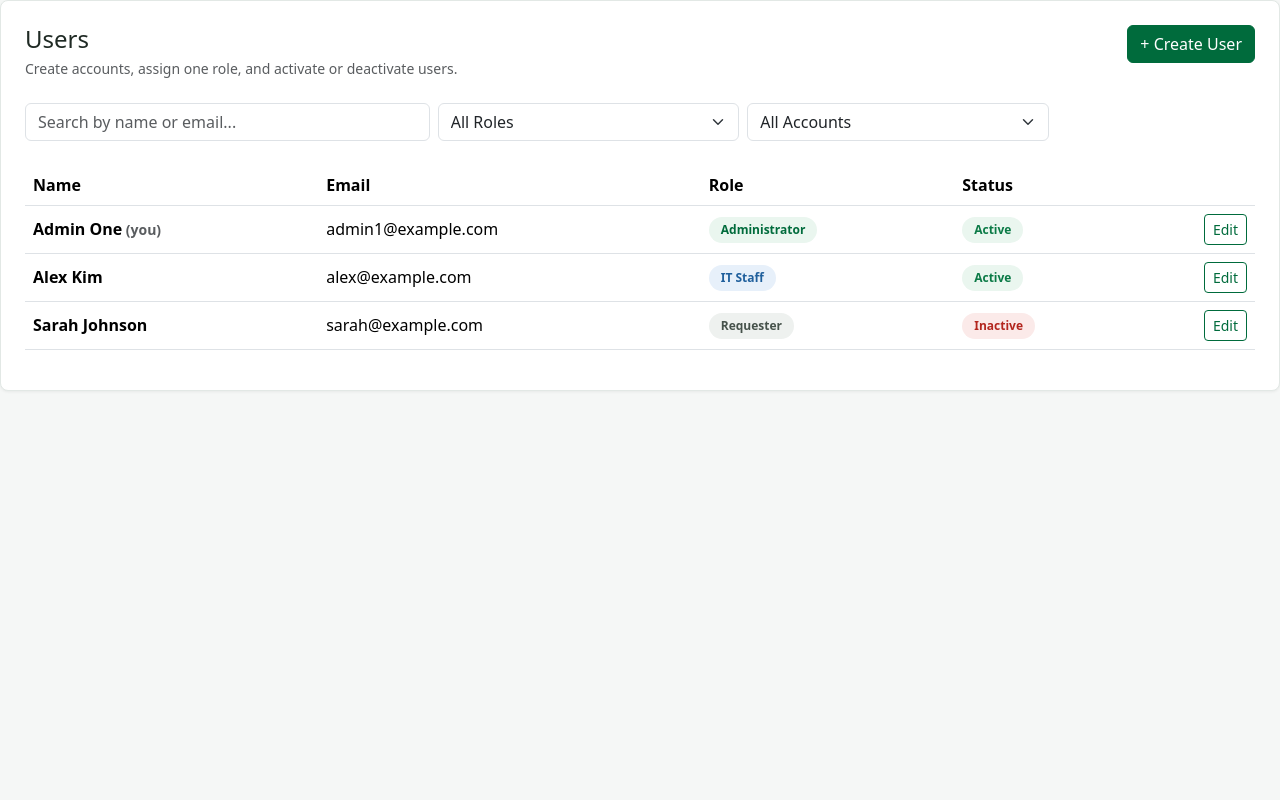
Test case: UserManagement (UI-05) › closes the panel on Escape
Click the button with aria-label "Edit Alex Kim". click: (1225, 277)
box: [1204,262,1247,293]
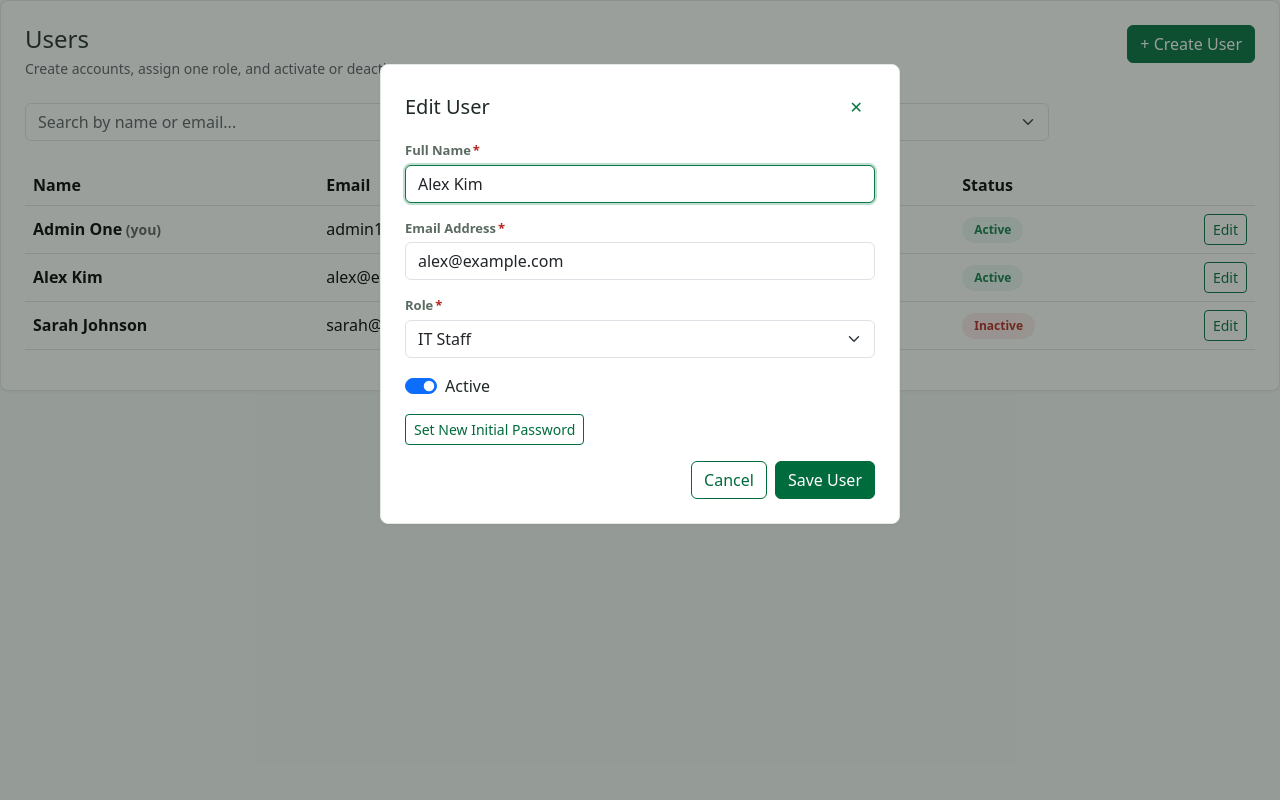
Press Escape
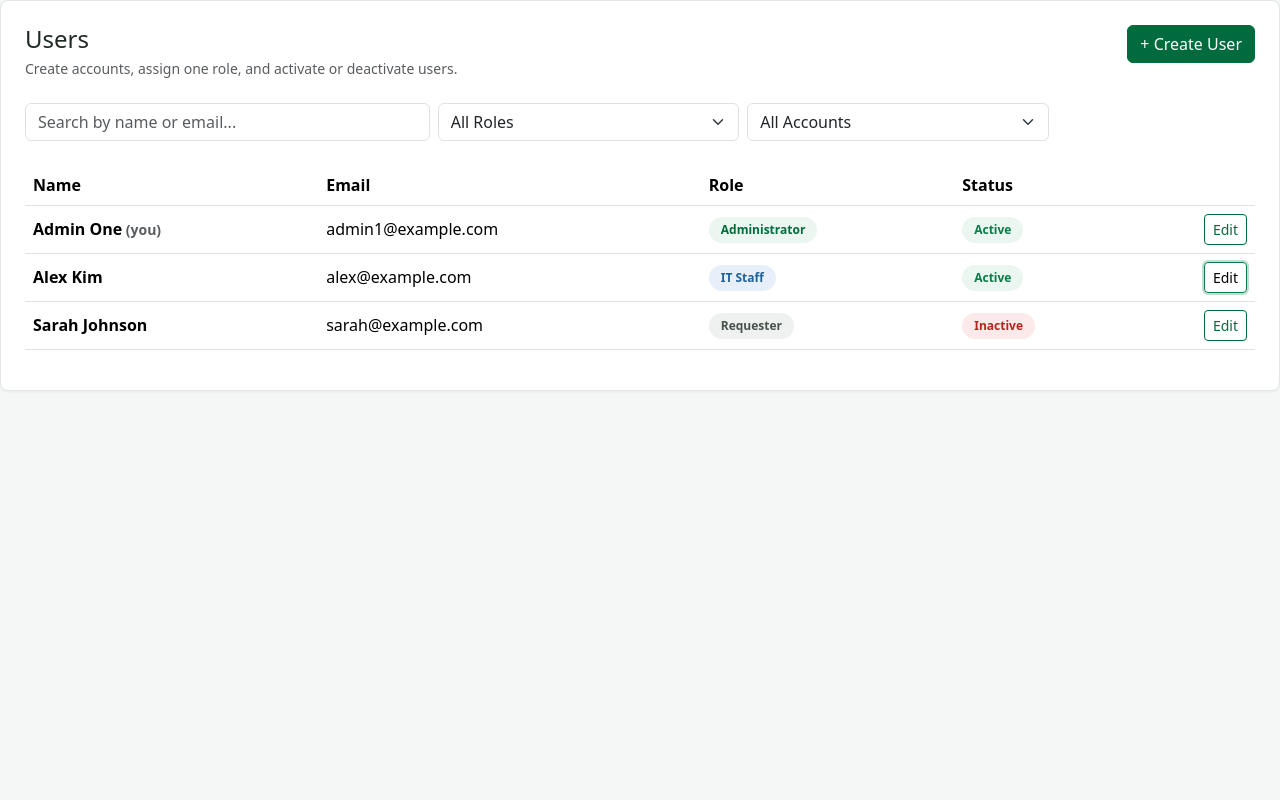
expect the dialog is gone: met
